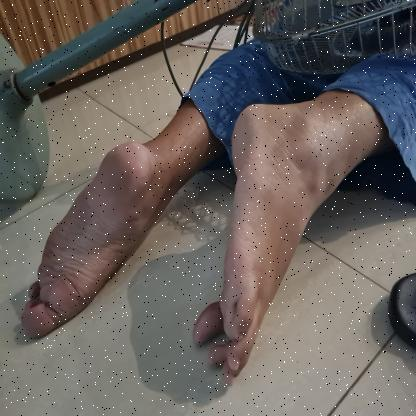leg: (186, 86, 380, 393), (14, 99, 218, 345)
